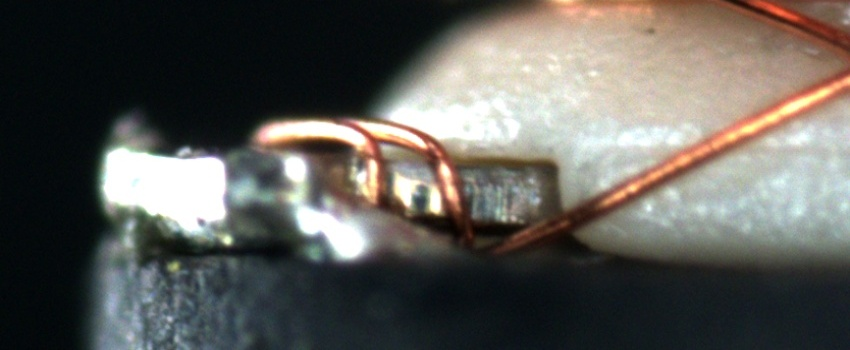DL: (588, 118, 850, 182)
TE: (243, 106, 487, 246)
